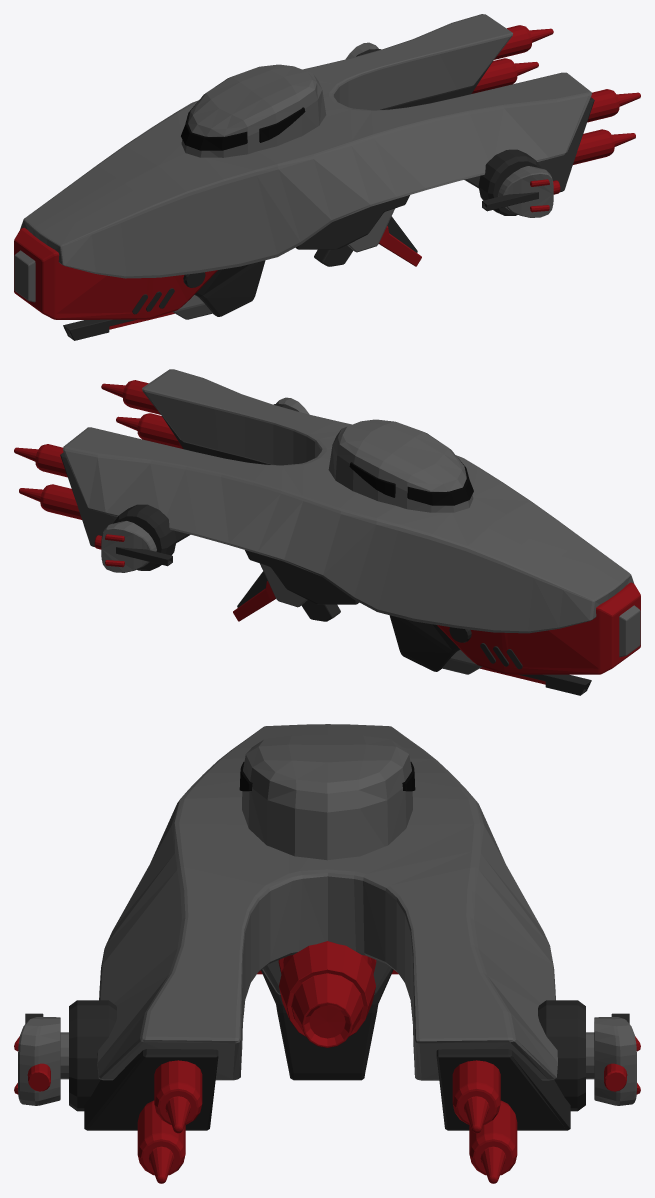
The model's file is fga_fregate2_r.glb.
3 renders of one model, top to bottom at view 1: azimuth 30°, elevation 25°; view 2: azimuth 150°, elevation 25°; view 3: azimuth 270°, elevation 25°, orthographic. The views are drawn at different scales.
Visible parts, largest first — view 1: Frigate_2; view 2: Frigate_2; view 3: Frigate_2.
Part boxes in pixels (box(x1,y1,x2,y2)): Frigate_2: box(14, 14, 640, 340); Frigate_2: box(14, 369, 640, 695); Frigate_2: box(14, 724, 640, 1183).
Size of the model in its own units: 3938 by 1402 by 2176.
Materials: 1 (1 with a texture image).
